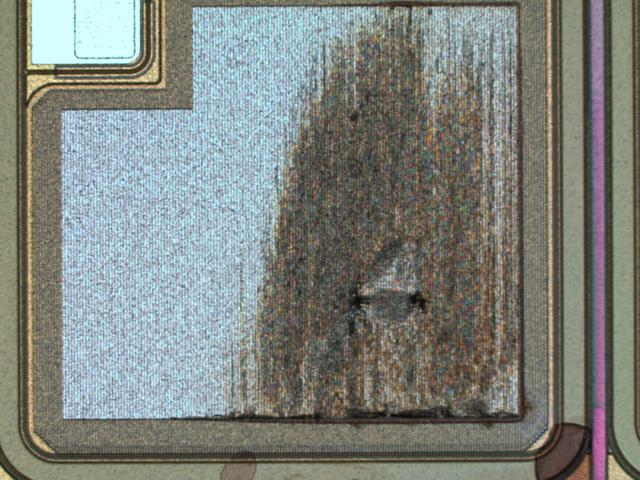SEZ BURNT: (222, 1, 526, 423)
